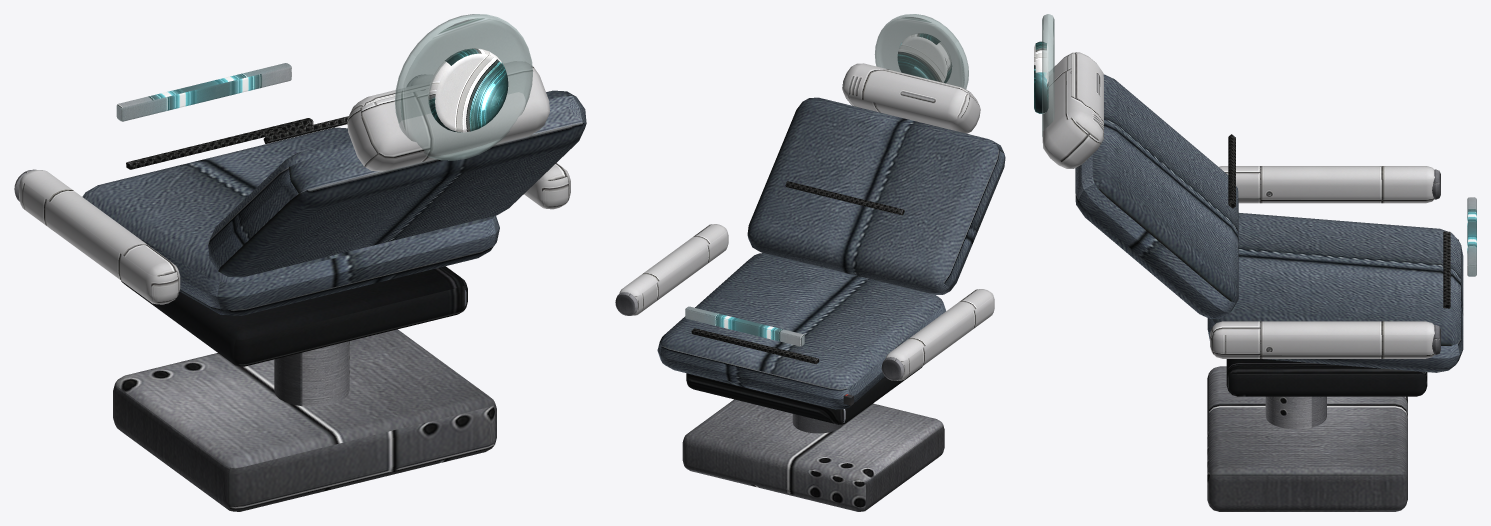
The model's file is hp_l4_cineclinic_memory_recliner.glb.
3 renders of one model, left to right at view 1: azimuth 30°, elevation 25°; view 2: azimuth 150°, elevation 25°; view 3: azimuth 270°, elevation 25°, orthographic. The views are drawn at different scales.
Visible parts, largest first — view 1: titanium_floor_anchor, back_pad, seat_pad, underseat_black_shell, head_ring_mount, memory_head_ring, left_arm_rest, head_inner_lens, lift_column, cyan_chest_reader, seat_center_stitch, right_arm_rest (+1 smaller); view 2: back_pad, seat_pad, titanium_floor_anchor, head_ring_mount, memory_head_ring, right_arm_rest, left_arm_rest, underseat_black_shell, head_inner_lens, cyan_chest_reader, seat_center_stitch, back_center_stitch (+3 smaller); view 3: seat_pad, back_pad, titanium_floor_anchor, right_arm_rest, left_arm_rest, underseat_black_shell, head_ring_mount, lift_column, memory_head_ring, head_inner_lens, cyan_chest_reader, seat_center_stitch (+1 smaller).
Boxes of the visible parts, x1=… form: titanium_floor_anchor: x1=113, y1=329, x2=496, y2=511; back_pad: x1=208, y1=90, x2=586, y2=277; seat_pad: x1=82, y1=127, x2=499, y2=315; underseat_black_shell: x1=121, y1=266, x2=467, y2=366; head_ring_mount: x1=347, y1=61, x2=549, y2=171; memory_head_ring: x1=395, y1=14, x2=532, y2=160; left_arm_rest: x1=19, y1=169, x2=180, y2=304; head_inner_lens: x1=428, y1=48, x2=508, y2=132; lift_column: x1=274, y1=341, x2=349, y2=406; cyan_chest_reader: x1=116, y1=63, x2=291, y2=121; seat_center_stitch: x1=126, y1=118, x2=313, y2=169; right_arm_rest: x1=411, y1=75, x2=570, y2=209; back_pad: x1=747, y1=97, x2=1005, y2=295; seat_pad: x1=657, y1=253, x2=945, y2=409; titanium_floor_anchor: x1=682, y1=399, x2=944, y2=511; head_ring_mount: x1=842, y1=63, x2=980, y2=133; memory_head_ring: x1=874, y1=14, x2=968, y2=89; right_arm_rest: x1=619, y1=224, x2=728, y2=315; left_arm_rest: x1=885, y1=289, x2=994, y2=380; underseat_black_shell: x1=686, y1=366, x2=922, y2=424; head_inner_lens: x1=897, y1=33, x2=951, y2=83; cyan_chest_reader: x1=685, y1=306, x2=804, y2=346; seat_center_stitch: x1=691, y1=328, x2=819, y2=364; back_center_stitch: x1=785, y1=181, x2=904, y2=215; seat_pad: x1=1207, y1=213, x2=1463, y2=372; back_pad: x1=1075, y1=74, x2=1238, y2=318; titanium_floor_anchor: x1=1207, y1=366, x2=1407, y2=511; right_arm_rest: x1=1210, y1=321, x2=1434, y2=358; left_arm_rest: x1=1219, y1=166, x2=1434, y2=203; underseat_black_shell: x1=1226, y1=359, x2=1427, y2=396; head_ring_mount: x1=1042, y1=52, x2=1103, y2=168; lift_column: x1=1265, y1=396, x2=1326, y2=429; memory_head_ring: x1=1042, y1=14, x2=1054, y2=136; head_inner_lens: x1=1034, y1=41, x2=1048, y2=113; cyan_chest_reader: x1=1467, y1=197, x2=1476, y2=276; seat_center_stitch: x1=1443, y1=231, x2=1450, y2=308.
Bounding box in the file's own units: 1.43 × 1.75 × 1.59.
Materials: 9 (9 with a texture image).
